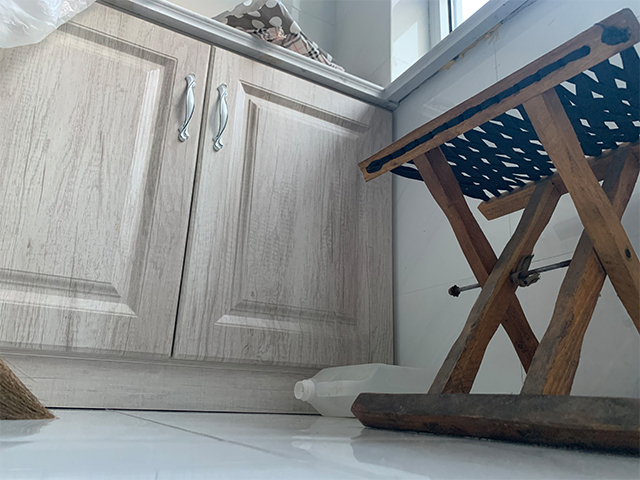cabinet: (1, 1, 394, 416)
stool: (349, 6, 640, 458)
